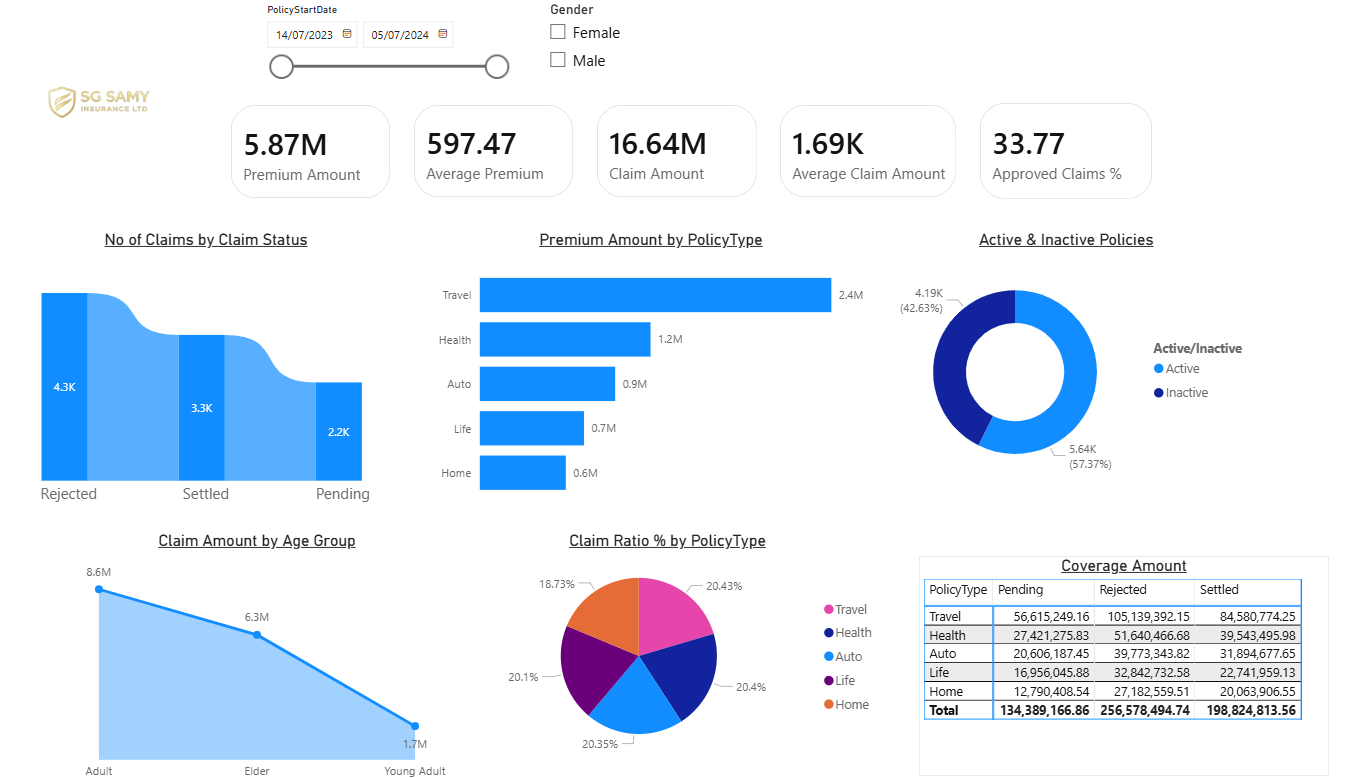

The dashboard page shown, as its layout file describes it:
{"tool":"powerbi","page":{"name":"Page 1","canvas":[1600,900],"ordinal":0},"visuals":[{"type":"cardVisual","fields":{"Data":["InsuranceData.Total Premium"]},"box":[248.3,97.6,203.3,133.3],"z":4},{"type":"cardVisual","fields":{"Data":["Sum(InsuranceData.ClaimAmount)"]},"box":[637,97.8,204.3,133],"z":6},{"type":"ribbonChart","title":"No of Claims by Claim Status","fields":{"Category":["InsuranceData.ClaimStatus"],"Y":["CountNonNull(InsuranceData.ClaimStatus)"]},"box":[0,248.3,476.7,301.7],"z":7},{"type":"clusteredBarChart","title":"Premium Amount by PolicyType","fields":{"Category":["InsuranceData.PolicyType"],"Y":["Sum(InsuranceData.PremiumAmount)"]},"box":[476.7,248.3,470,301.7],"z":8},{"type":"lineChart","title":"Claim Amount by Age Group","fields":{"Category":["InsuranceData.Age Group"],"Y":["Sum(InsuranceData.ClaimAmount)"]},"box":[52.1,568.1,480.9,273.4],"z":9},{"type":"donutChart","title":"Active & Inactive Policies","fields":{"Category":["InsuranceData.Active/Inactive"],"Y":["CountNonNull(InsuranceData.Active/Inactive)"]},"box":[946.7,248.3,413.3,283.3],"z":10},{"type":"cardVisual","fields":{"Data":["InsuranceData.Average Premium"]},"box":[442.7,97.8,203.2,133],"z":13},{"type":"cardVisual","fields":{"Data":["InsuranceData.Average Claim Amount"]},"box":[832.3,97.8,221.3,133],"z":14},{"type":"cardVisual","fields":{"Data":["InsuranceData.Approved Claims %"]},"box":[1044.7,96.2,217,136.2],"z":15},{"type":"slicer","fields":{"Values":["InsuranceData.PolicyStartDate"]},"box":[290,1.7,283.3,95],"z":16},{"type":"slicer","fields":{"Values":["InsuranceData.Gender"]},"box":[591.7,0,153.3,96.7],"z":17},{"type":"pivotTable","title":"Coverage Amount","fields":{"Rows":["InsuranceData.PolicyType"],"Columns":["InsuranceData.ClaimStatus"],"Values":["Sum(InsuranceData.CoverageAmount)"]},"box":[996.8,568.1,436.2,234],"z":18},{"type":"image","box":[0,2.1,258.5,230.9],"z":19},{"type":"pieChart","fields":{"Category":["InsuranceData.PolicyType"],"Y":["InsuranceData.Claim Ratio %"]},"box":[497.9,568.1,462.8,246.8],"z":20}]}

Visuals, with their boxes in screenshot pixels (x1, y1, x2, y2), scaled from the page's 1600x900 canvas onto the 1354x778 screenshot:
cardVisual - InsuranceData.Total Premium: (x1=210, y1=84, x2=382, y2=200)
cardVisual - Sum(InsuranceData.ClaimAmount): (x1=539, y1=85, x2=712, y2=200)
"No of Claims by Claim Status" ribbonChart: (x1=0, y1=215, x2=403, y2=475)
"Premium Amount by PolicyType" clusteredBarChart: (x1=403, y1=215, x2=801, y2=475)
"Claim Amount by Age Group" lineChart: (x1=44, y1=491, x2=451, y2=727)
"Active & Inactive Policies" donutChart: (x1=801, y1=215, x2=1151, y2=460)
cardVisual - InsuranceData.Average Premium: (x1=375, y1=85, x2=547, y2=200)
cardVisual - InsuranceData.Average Claim Amount: (x1=704, y1=85, x2=892, y2=200)
cardVisual - InsuranceData.Approved Claims %: (x1=884, y1=83, x2=1068, y2=201)
slicer - InsuranceData.PolicyStartDate: (x1=245, y1=1, x2=485, y2=84)
slicer - InsuranceData.Gender: (x1=501, y1=0, x2=630, y2=84)
"Coverage Amount" pivotTable: (x1=844, y1=491, x2=1213, y2=693)
image: (x1=0, y1=2, x2=219, y2=201)
pieChart - InsuranceData.PolicyType x InsuranceData.Claim Ratio %: (x1=421, y1=491, x2=813, y2=704)
